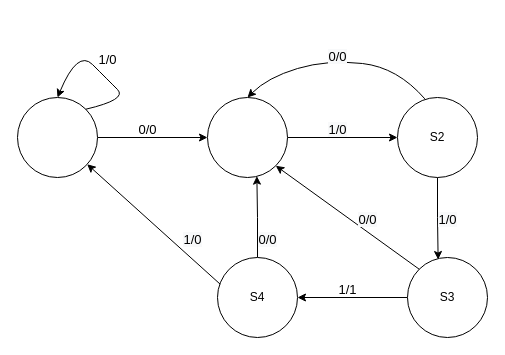
This 505x355 diagram has some shape labels left out. Here are the shapes that lost their labels. From the top down, the centre of each, then its label:
At [57,137]: "S0".
At [247,137]: "S1".
